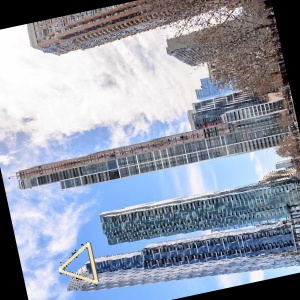triangle: (55, 239, 100, 287)
